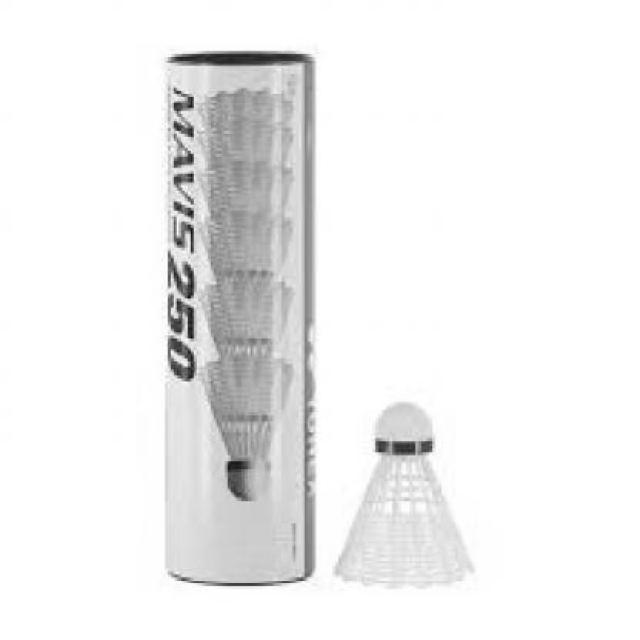Shuttlecock: (335, 402, 474, 586)
